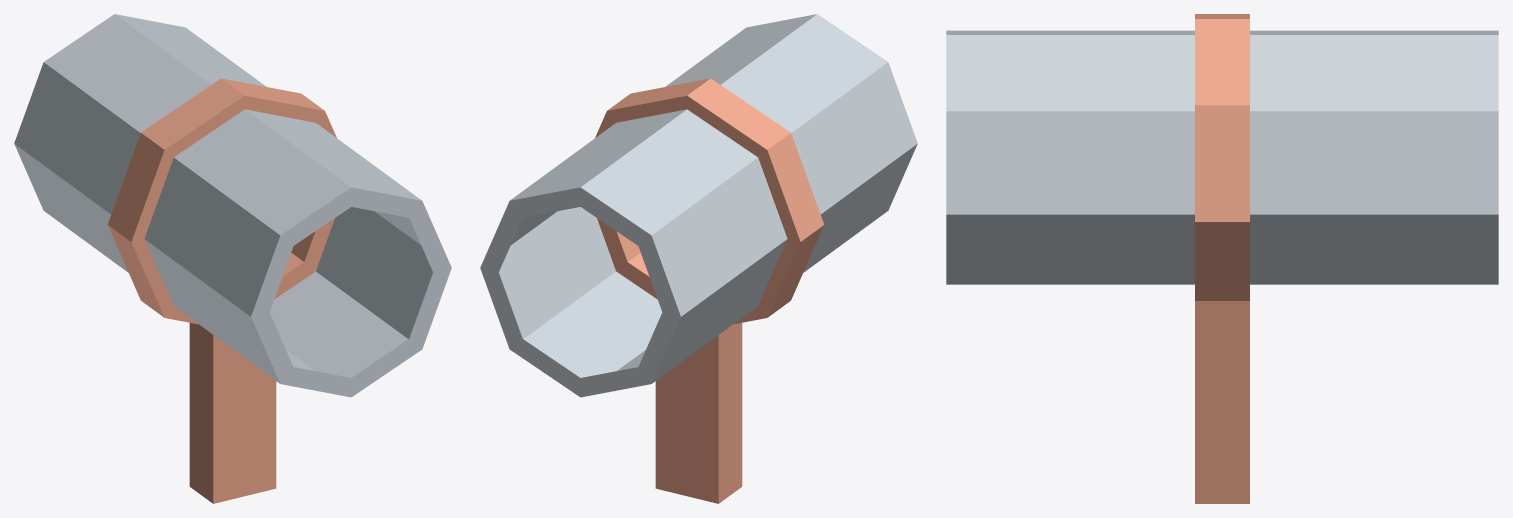
File: pipeStandStraightLiner.glb
3 views of the same model, side by side, from view 1: azimuth 30°, elevation 25°; view 2: azimuth 150°, elevation 25°; view 3: azimuth 270°, elevation 25° (orthographic). The views are drawn at different scales.
Parts seen in each view (by area): view 1: pipeStandStraightLiner; view 2: pipeStandStraightLiner; view 3: pipeStandStraightLiner.
Boxes of the visible parts, bbox=[...] form: pipeStandStraightLiner: bbox=[14, 14, 451, 503]; pipeStandStraightLiner: bbox=[480, 14, 917, 503]; pipeStandStraightLiner: bbox=[946, 14, 1498, 503].
Size of the model in its own units: 5.53 by 9.33 by 10.
